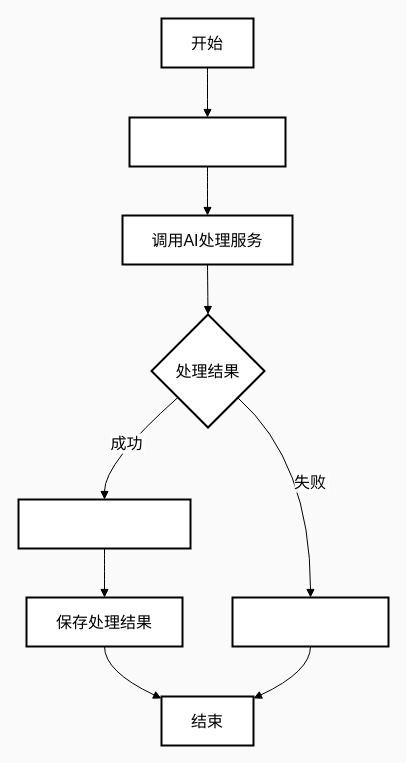
The diagram is 406 pixels wide and 763 high, and some of its shapes have lost their labels. Here are the shapes that lost their labels. From the top down, the centre of each, then its label:
At (x=207, y=141): "获取数据库新闻内容".
At (x=104, y=523): "生成摘要和标题".
At (x=310, y=621): "记录处理错误".
